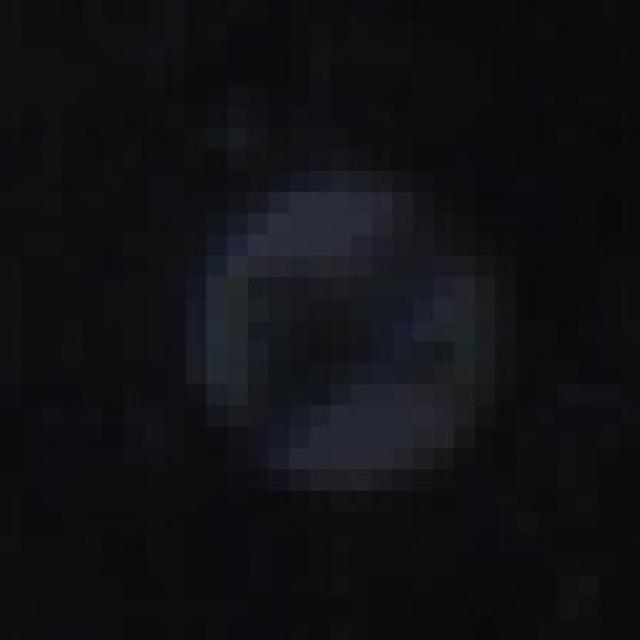Overtaking by trucks is prohibited: (103, 106, 579, 512)
